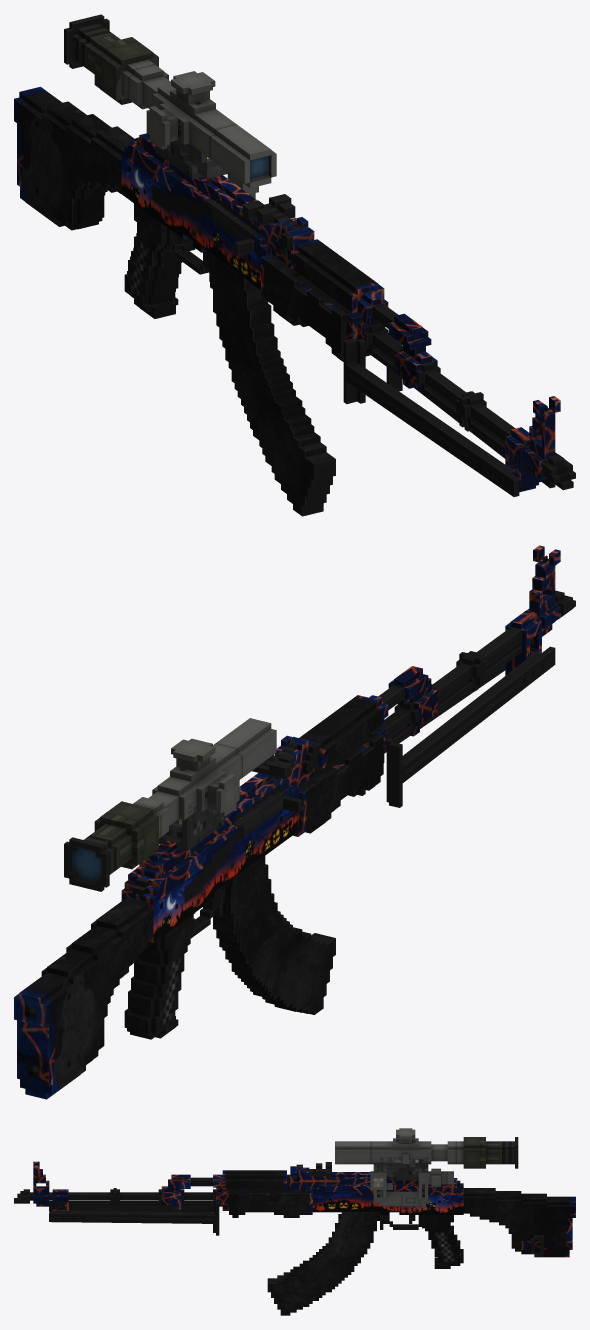
File: RD_RPK_SCARY.glb
The picture shows the model from 3 angles, top to bottom: view 1: azimuth 30°, elevation 25°; view 2: azimuth 150°, elevation 25°; view 3: azimuth 270°, elevation 25°; orthographic projection. The views are drawn at different scales.
Parts seen in each view (by area): view 1: RPK, RPK_CLIP, SCOPE_PSO1, RPK_DIPOD_LEG1, SCOPE_EOTECH, RPK_DIPOD_LEG2, SCOPE_TASCO; view 2: RPK, SCOPE_PSO1, RPK_CLIP, RPK_DIPOD_LEG1, SCOPE_EOTECH; view 3: RPK, SCOPE_PSO1, RPK_CLIP, RPK_DIPOD_LEG2, RPK_DIPOD_LEG1, SCOPE_TASCO, SCOPE_EOTECH.
Boxes of the visible parts, <box> form: RPK: <box>14,86,575,492</box>; RPK_CLIP: <box>210,253,335,516</box>; SCOPE_PSO1: <box>64,14,276,198</box>; RPK_DIPOD_LEG1: <box>343,338,519,496</box>; SCOPE_EOTECH: <box>155,142,228,178</box>; RPK_DIPOD_LEG2: <box>386,333,555,488</box>; SCOPE_TASCO: <box>164,140,217,178</box>; RPK: <box>14,545,575,1099</box>; SCOPE_PSO1: <box>64,718,276,891</box>; RPK_CLIP: <box>213,856,335,1014</box>; RPK_DIPOD_LEG1: <box>386,646,555,807</box>; SCOPE_EOTECH: <box>159,806,218,850</box>; RPK: <box>14,1161,575,1268</box>; SCOPE_PSO1: <box>335,1128,518,1206</box>; RPK_CLIP: <box>267,1212,379,1315</box>; RPK_DIPOD_LEG2: <box>49,1199,219,1235</box>; RPK_DIPOD_LEG1: <box>49,1206,212,1212</box>; SCOPE_TASCO: <box>380,1146,428,1180</box>; SCOPE_EOTECH: <box>386,1159,428,1180</box>.
Bounding box in the file's own units: 0.1378 × 0.6101 × 1.72.
6 materials, 6 textured.
